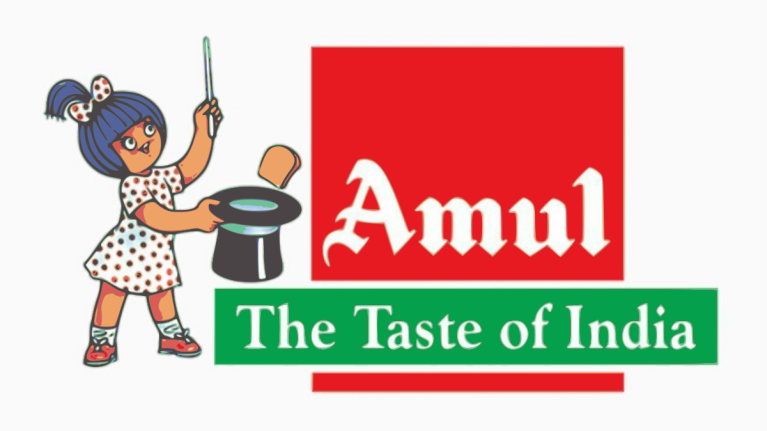Amul: (309, 158, 623, 276)
